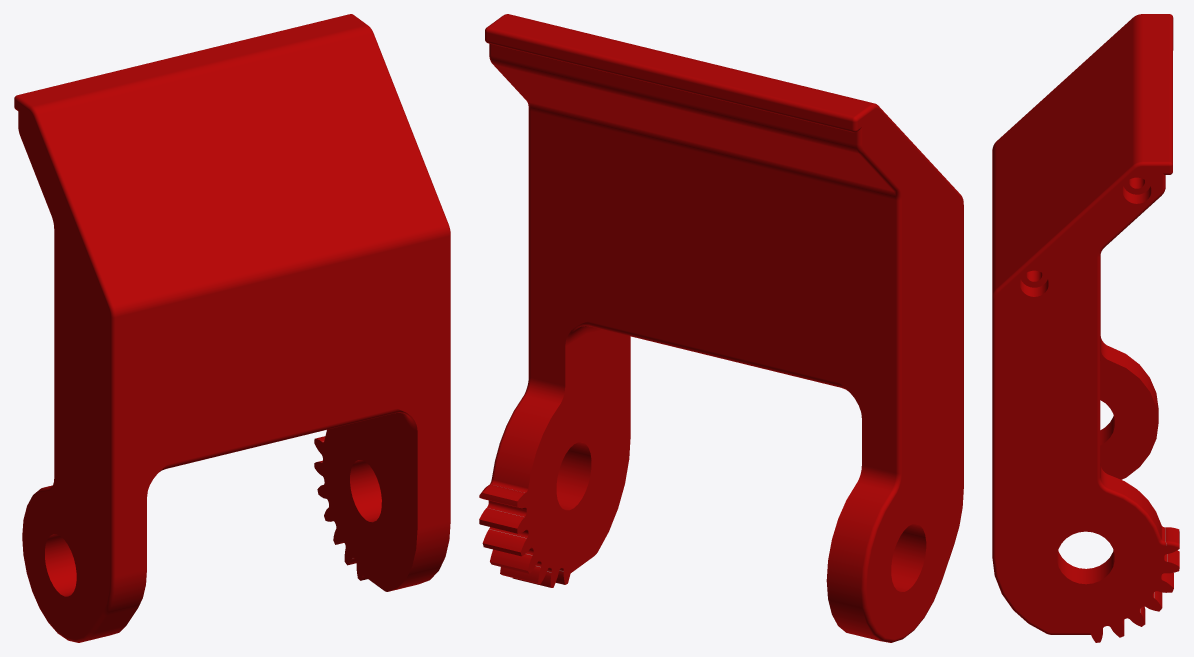
Rendered from Sciurus17_l8_2.gltf.
3 renders of one model, left to right at view 1: azimuth 30°, elevation 25°; view 2: azimuth 150°, elevation 25°; view 3: azimuth 270°, elevation 25°, orthographic. The views are drawn at different scales.
Visible parts, largest first — view 1: Sciurus17_Left_HandD2; view 2: Sciurus17_Left_HandD2; view 3: Sciurus17_Left_HandD2.
Part boxes in pixels (x1=…): Sciurus17_Left_HandD2: x1=14, y1=14, x2=450, y2=642; Sciurus17_Left_HandD2: x1=479, y1=14, x2=963, y2=642; Sciurus17_Left_HandD2: x1=992, y1=14, x2=1179, y2=642.
Bounding box in the file's own units: 0.049 × 0.0729 × 0.0258.
